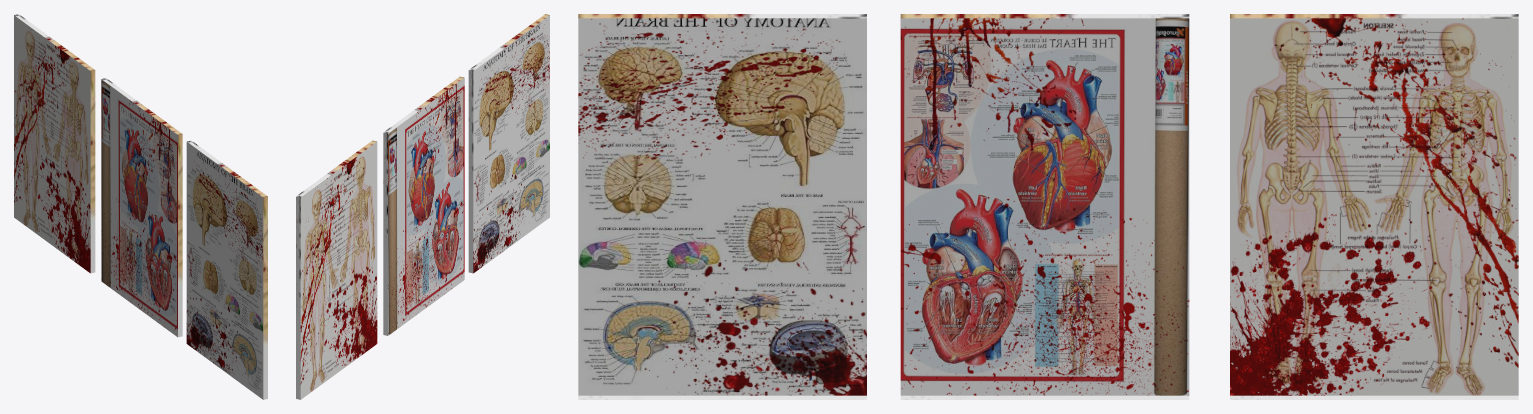
Rendered from doctor poster.fbx.
The picture shows the model from 3 angles, left to right: view 1: azimuth 30°, elevation 25°; view 2: azimuth 150°, elevation 25°; view 3: azimuth 270°, elevation 25°; orthographic projection. The views are drawn at different scales.
Visible parts, largest first — view 1: poster 1, poster 2, poster 3; view 2: poster 1, poster 2, poster 3; view 3: poster 2, poster 1, poster 3.
Part boxes in pixels (x1=…): poster 1: x1=186, y1=140, x2=267, y2=399; poster 2: x1=101, y1=78, x2=182, y2=337; poster 3: x1=14, y1=14, x2=95, y2=273; poster 1: x1=468, y1=14, x2=549, y2=273; poster 2: x1=383, y1=76, x2=464, y2=335; poster 3: x1=296, y1=140, x2=377, y2=399; poster 2: x1=900, y1=14, x2=1189, y2=399; poster 1: x1=578, y1=14, x2=866, y2=399; poster 3: x1=1230, y1=14, x2=1518, y2=399.
Size of the model in its own units: 0.0175 by 0.7282 by 1.63.
